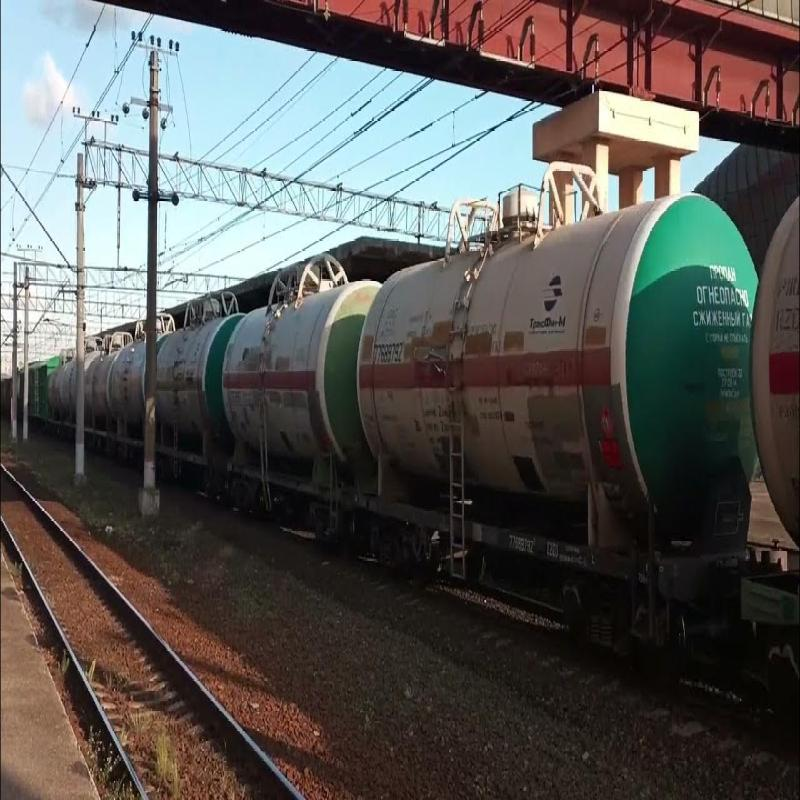train: (351, 182, 781, 676), (215, 260, 392, 537), (132, 303, 245, 511)
